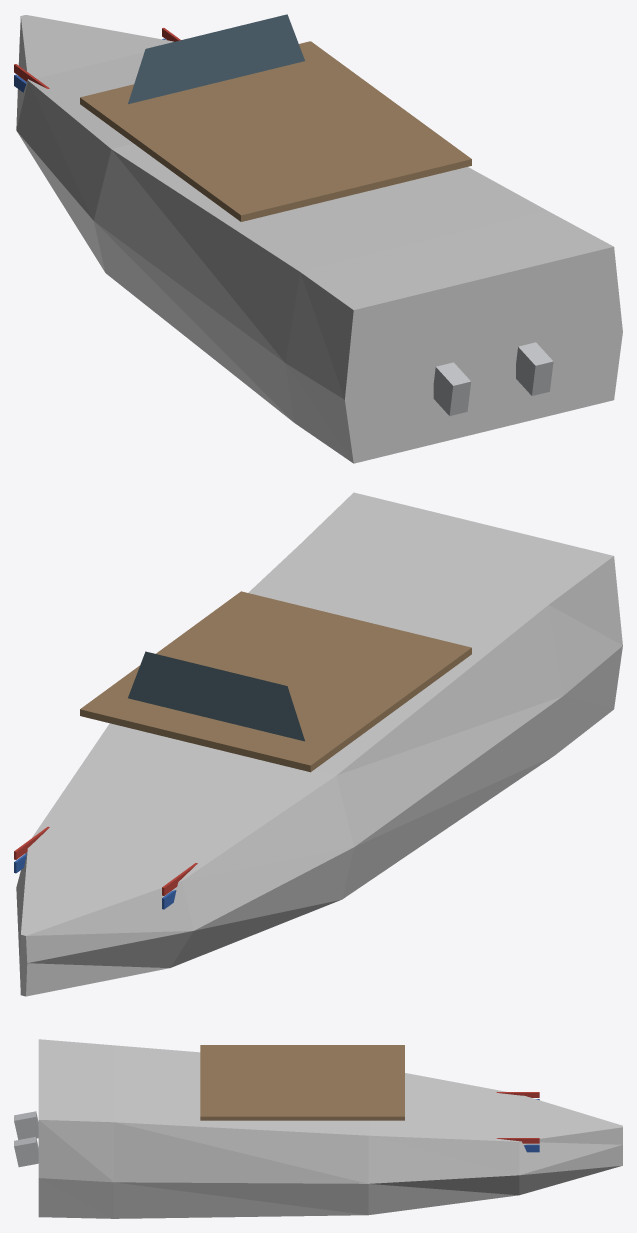
File: speedboat.glb
3 renders of one model, top to bottom at view 1: azimuth 30°, elevation 25°; view 2: azimuth 150°, elevation 25°; view 3: azimuth 270°, elevation 25°, orthographic. The views are drawn at different scales.
Visible parts, largest first — view 1: Body; view 2: Body; view 3: Body.
Boxes of the visible parts, x1,y1,x2,y2 form: Body: (14,14,622,463); Body: (14,492,622,996); Body: (14,1039,622,1218).
Bounding box in the file's own units: 2.16 × 1.54 × 6.46.
